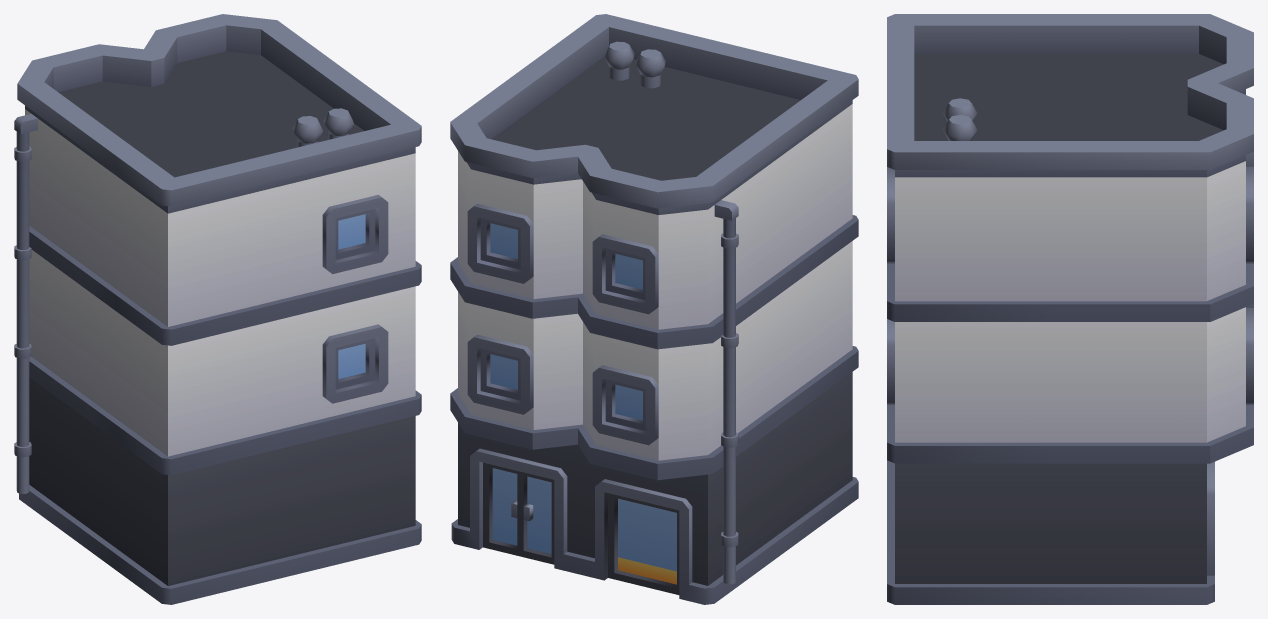
File: company.glb
3 views of the same model, side by side, from view 1: azimuth 30°, elevation 25°; view 2: azimuth 150°, elevation 25°; view 3: azimuth 270°, elevation 25° (orthographic). The views are drawn at different scales.
Visible parts, largest first — view 1: building-a; view 2: building-a; view 3: building-a.
Boxes of the visible parts, bbox=[...] form: building-a: bbox=[14, 14, 421, 604]; building-a: bbox=[450, 14, 858, 604]; building-a: bbox=[887, 14, 1253, 604].
Bounding box in the file's own units: 0.8835 × 1.29 × 0.94.
Materials: 1 (1 with a texture image).
